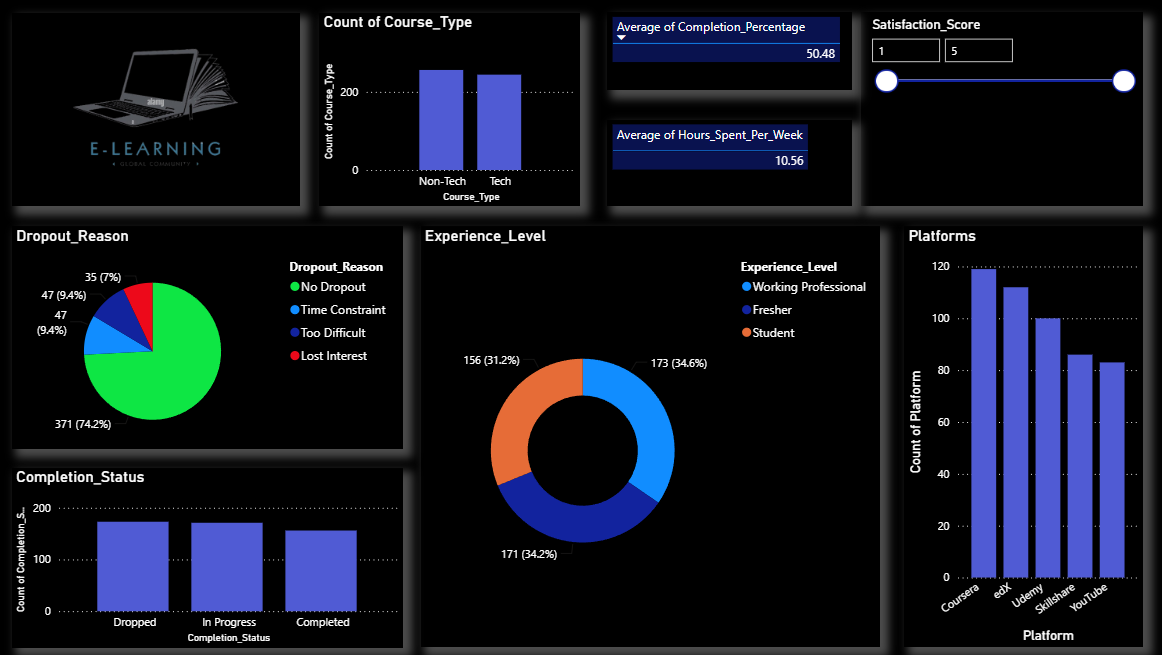

Layout of this report page (visuals, bound fields, positions):
{"tool":"powerbi","page":{"name":"Page 1","canvas":[1280,720],"ordinal":0},"visuals":[{"type":"columnChart","title":"Count of Course_Type ","fields":{"Category":["online learning analysis.Course_Type"],"Y":["CountNonNull(online learning analysis.Course_Type)"]},"box":[352.7,13.7,286.8,212.7],"z":0},{"type":"slicer","fields":{"Values":["online learning analysis.Satisfaction_Score"]},"box":[946.8,13.7,310.1,212.7],"z":1000},{"type":"columnChart","title":" Platforms","fields":{"Category":["online learning analysis.Platform"],"Y":["CountNonNull(online learning analysis.Platform)"]},"box":[994.9,248.4,262.1,462.4],"z":2000},{"type":"pieChart","title":" Dropout_Reason","fields":{"Category":["online learning analysis.Dropout_Reason"],"Series":["online learning analysis.Dropout_Reason"],"Y":["CountNonNull(online learning analysis.Dropout_Reason)"]},"box":[15.1,248.4,429.5,244.3],"z":3000},{"type":"donutChart","title":" Experience_Level","fields":{"Category":["online learning analysis.Experience_Level"],"Y":["CountNonNull(online learning analysis.Experience_Level)"]},"box":[463.8,248.4,503.6,462.4],"z":4000},{"type":"columnChart","title":" Completion_Status","fields":{"Category":["online learning analysis.Completion_Status"],"Y":["CountNonNull(online learning analysis.Completion_Status)"]},"box":[15.1,513.2,429.5,197.6],"z":5000},{"type":"tableEx","fields":{"Values":["Avg(online learning analysis.Completion_Percentage)"]},"box":[668.3,13.7,269,85.1],"z":6000},{"type":"tableEx","fields":{"Values":["Avg(online learning analysis.Hours_Spent_Per_Week)"]},"box":[668.3,131.7,269,94.7],"z":7000},{"type":"image","box":[15.1,13.7,315.6,212.7],"z":8000}]}

Visuals, with their boxes in screenshot pixels (x1, y1, x2, y2), scaled from the page's 1280x720 canvas onto the 1162x655 screenshot:
"Count of Course_Type " columnChart: <box>320,12,581,206</box>
slicer - online learning analysis.Satisfaction_Score: <box>860,12,1141,206</box>
" Platforms" columnChart: <box>903,226,1141,647</box>
" Dropout_Reason" pieChart: <box>14,226,404,448</box>
" Experience_Level" donutChart: <box>421,226,878,647</box>
" Completion_Status" columnChart: <box>14,467,404,647</box>
tableEx - Avg(online learning analysis.Completion_Percentage): <box>607,12,851,90</box>
tableEx - Avg(online learning analysis.Hours_Spent_Per_Week): <box>607,120,851,206</box>
image: <box>14,12,300,206</box>
